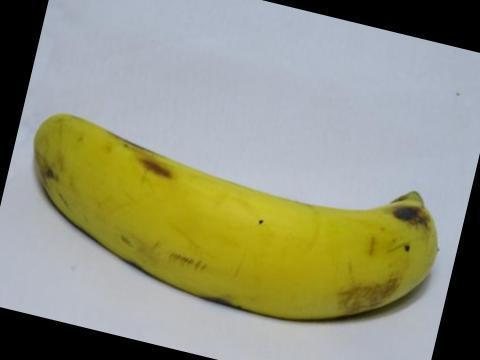freshripe: (15, 94, 458, 329)
